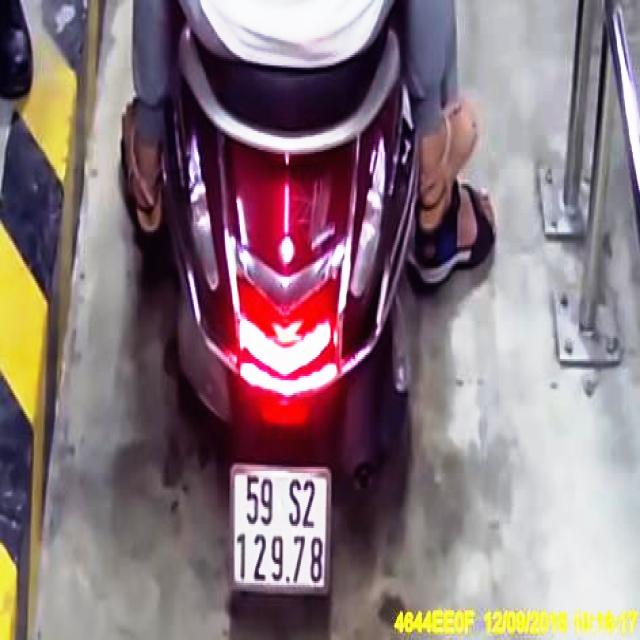license_plate: (234, 466, 327, 590)
